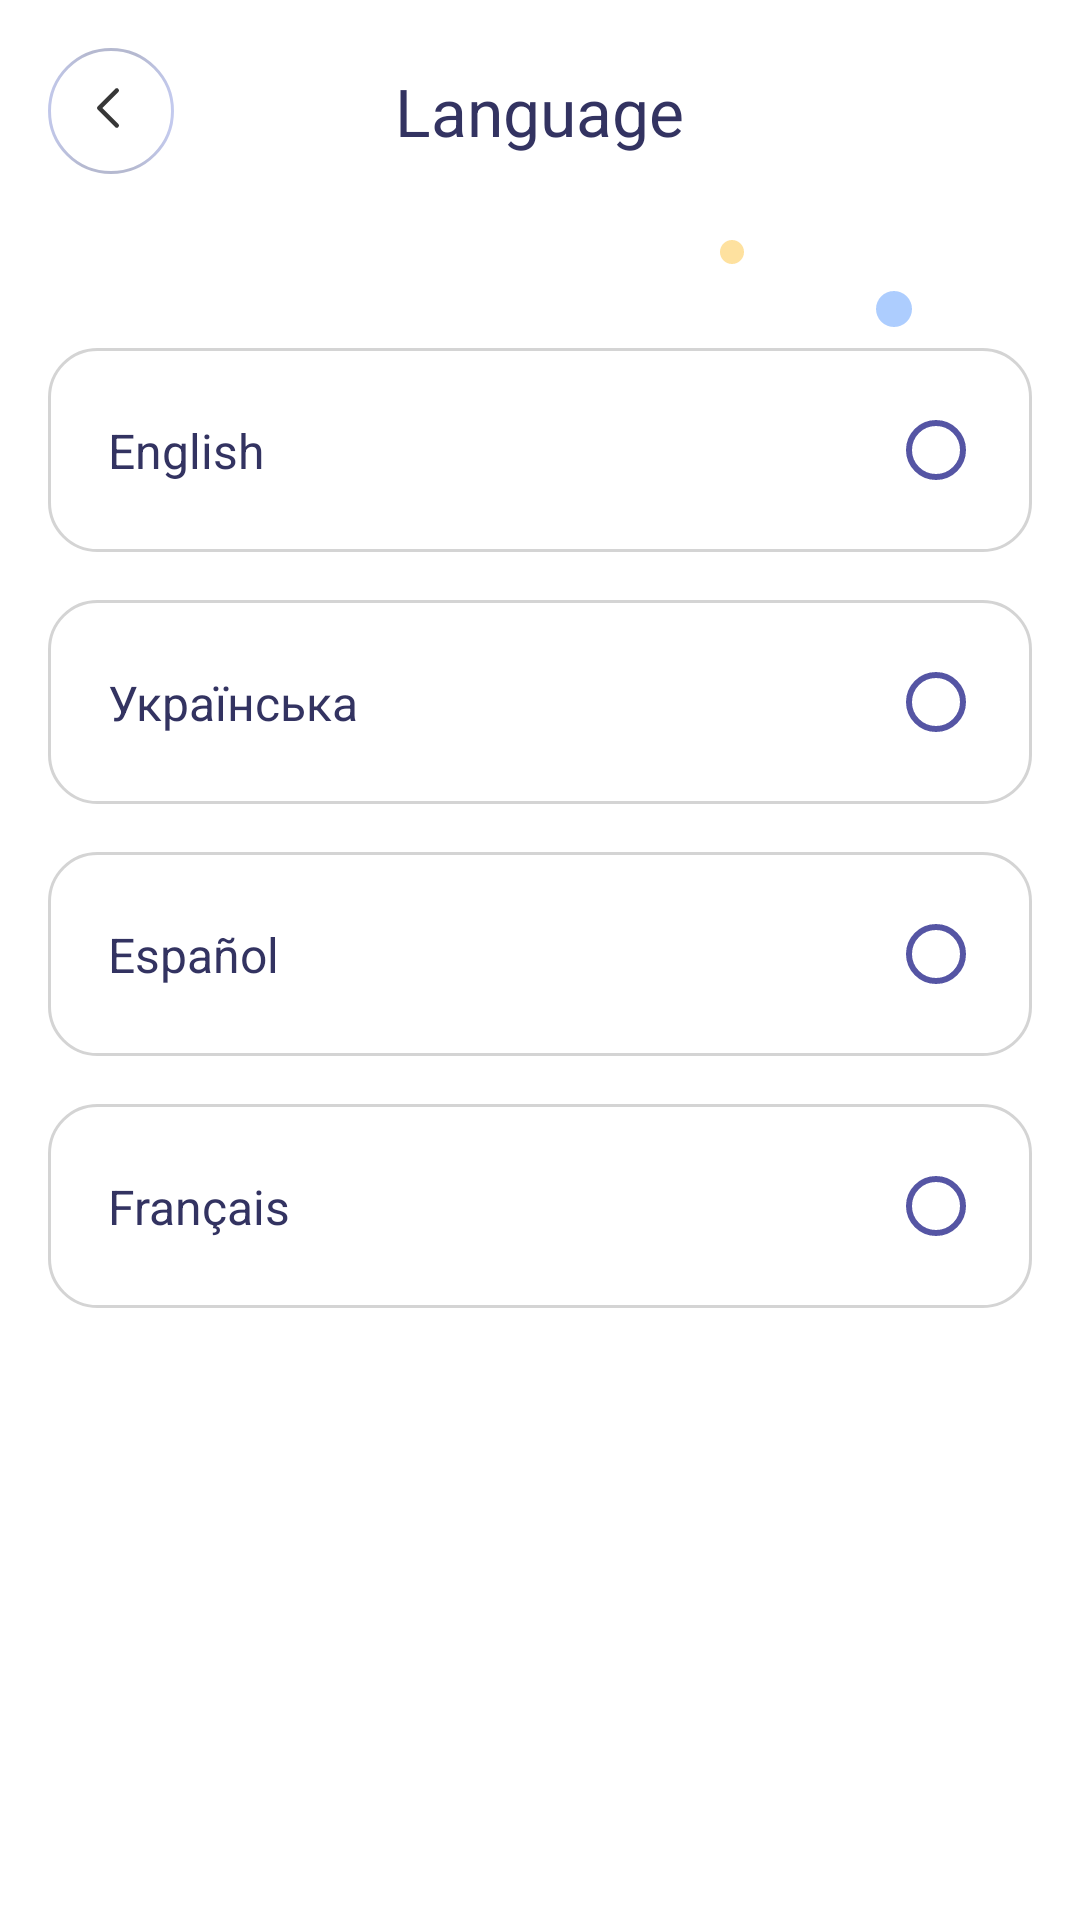

Where icons sit on this 1080 x 1920 app screen, as BBox(x1, y1, x2, y2):
back: BBox(48, 48, 174, 174)
